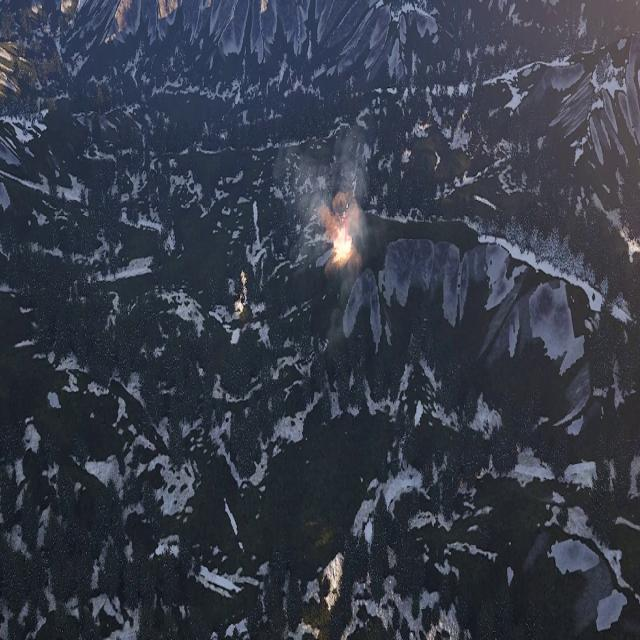fire: (334, 229, 354, 264)
smoke: (291, 121, 380, 262)
